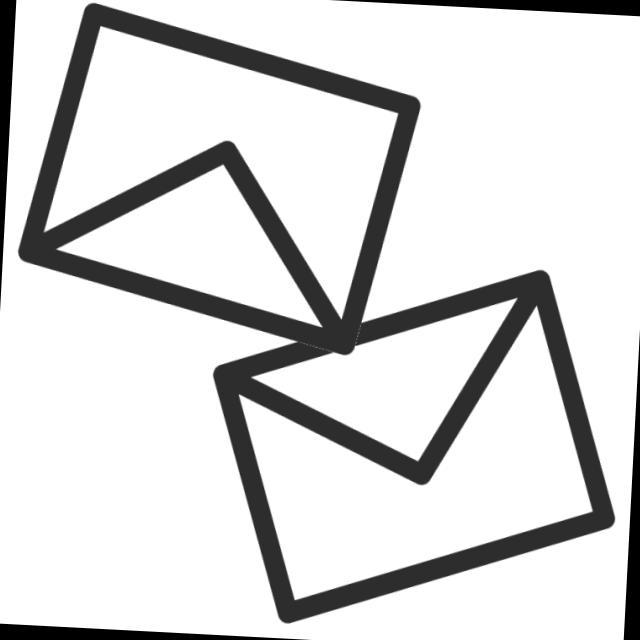letter: (193, 248, 633, 640), (7, 1, 432, 368)
